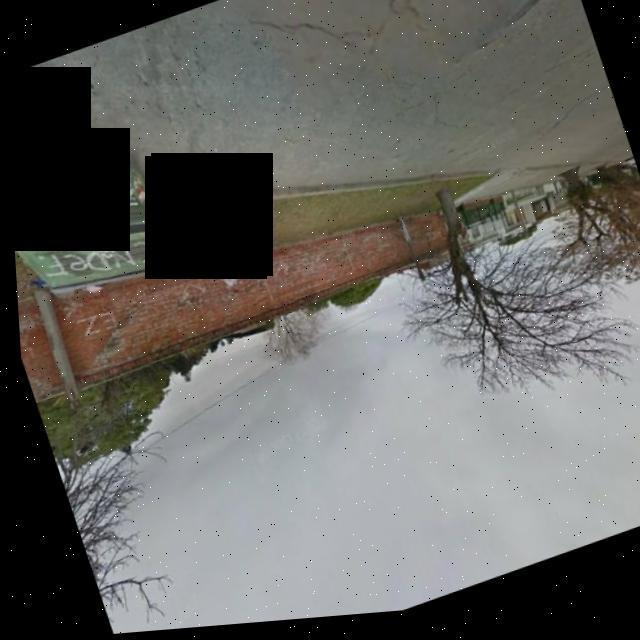bin: (4, 79, 205, 337)
